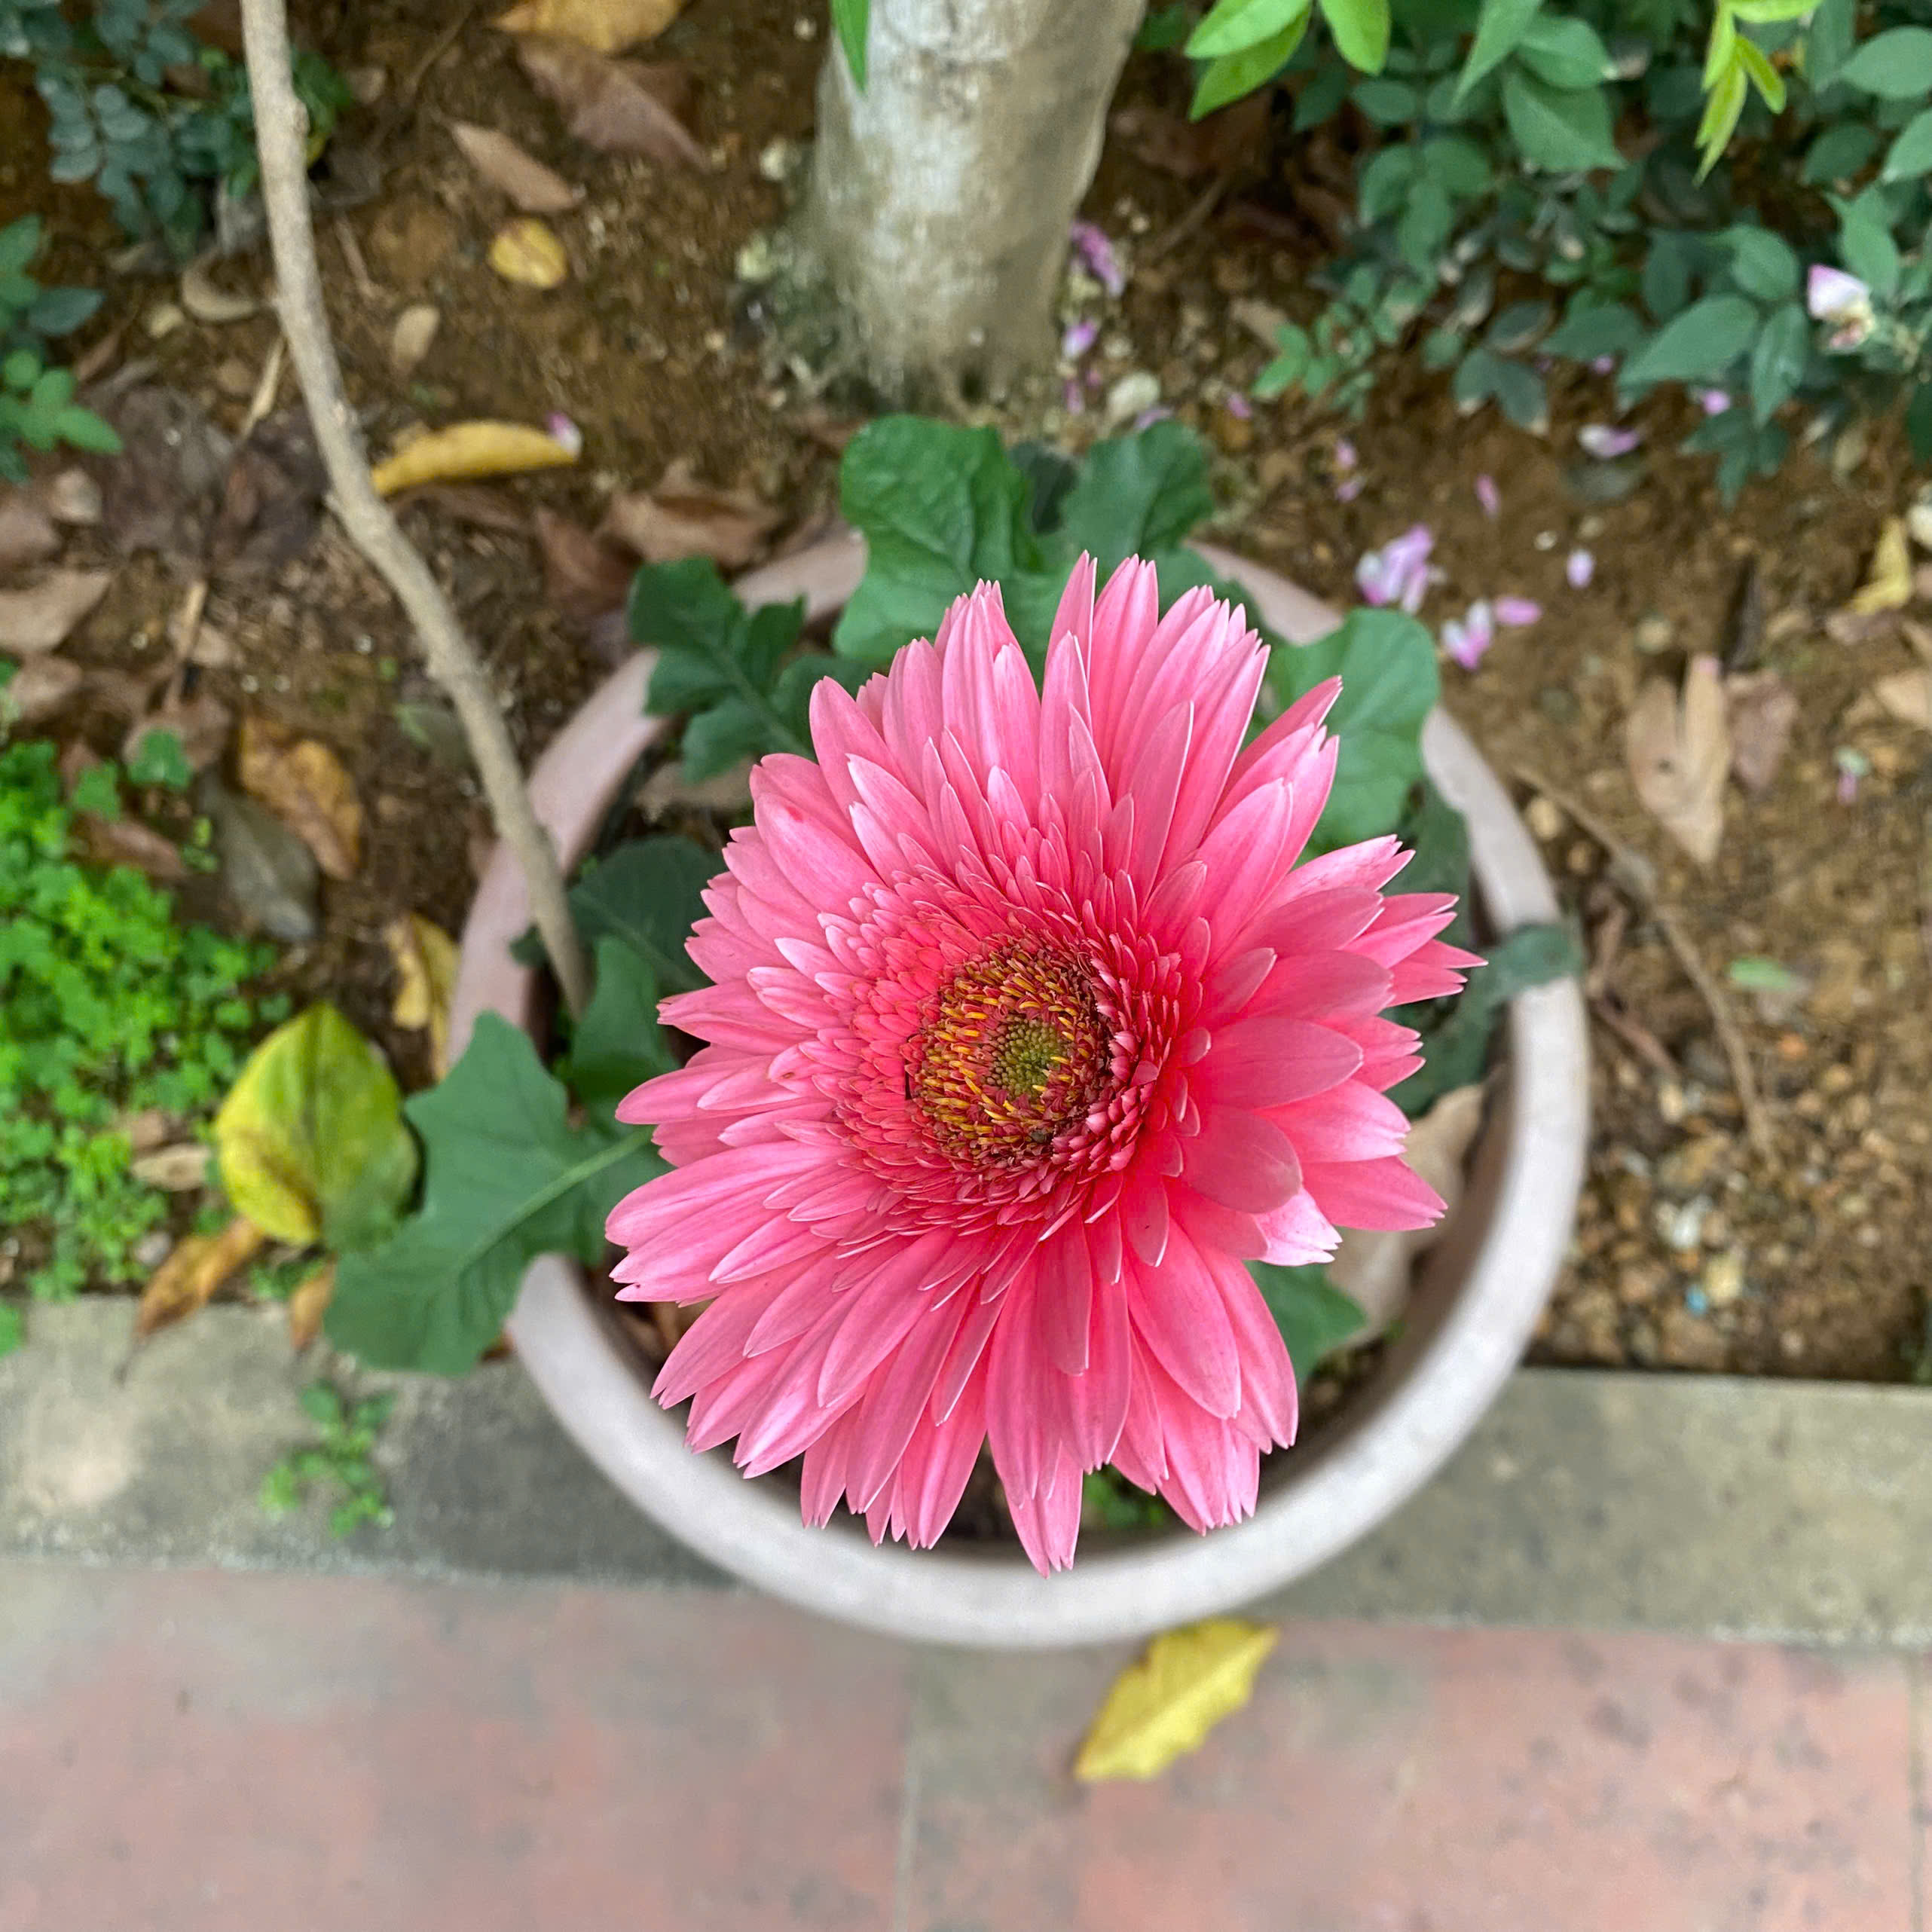hoa_huong_duong: (563, 499, 1660, 1697)
